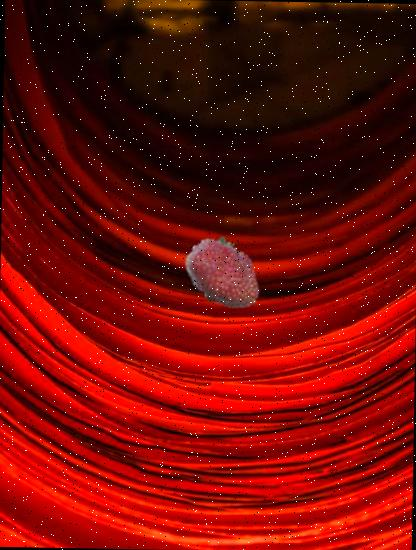Strawberry: (181, 232, 266, 317)
